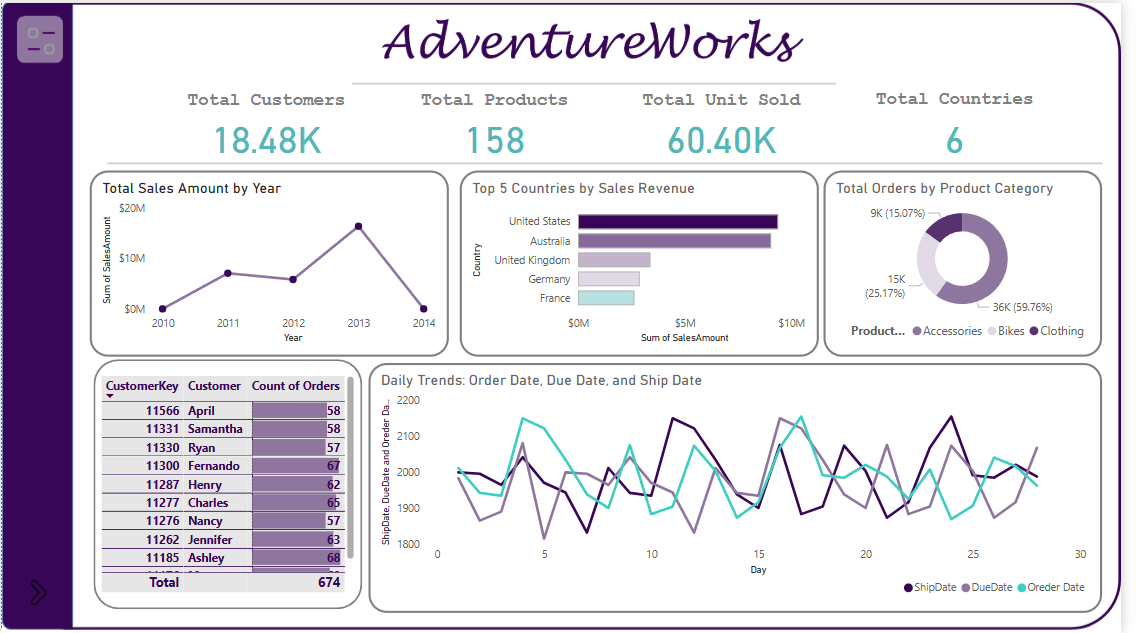

This screenshot's page, from the dashboard's own definition file:
{"tool":"powerbi","page":{"name":"Overview","canvas":[1280,720],"ordinal":2},"visuals":[{"type":"actionButton","box":[18.6,14.3,54.3,51.4],"z":0},{"type":"tableEx","fields":{"Values":["DimCustomer.CustomerKey","DimCustomer.FirstName","FactInternetSales.OrderDateKey"]},"box":[108.4,421.3,300.5,256.6],"z":1000},{"type":"image","box":[394.3,0,560,100],"z":2000},{"type":"shape","box":[105.7,407.1,307.1,285.7],"z":3000},{"type":"card","title":"Total Products","fields":{"Values":["FactInternetSales.ProductKey"]},"box":[433.6,100.2,259.3,82.3],"z":4000},{"type":"card","title":"Total Countries","fields":{"Values":["DimGeography.EnglishCountryRegionName"]},"box":[960.6,98.8,259.3,83.7],"z":5000},{"type":"card","title":"Total Unit Sold ","fields":{"Values":["FactInternetSales.OrderDateKey"]},"box":[693,100.2,260.7,82.3],"z":6000},{"type":"card","title":"Total Customers ","fields":{"Values":["FactInternetSales.CustomerKey"]},"box":[172.9,100.2,260.7,82.3],"z":7000},{"type":"shape","box":[401.4,85.7,552.9,12.9],"z":8000},{"type":"shape","box":[120.8,175.6,1137.6,15.1],"z":9000},{"type":"lineChart","title":"Total Sales Amount by Year","fields":{"Category":["FactInternetSales.OrderDate.Variation.Date Hierarchy.Year","FactInternetSales.OrderDate.Variation.Date Hierarchy.Quarter","FactInternetSales.OrderDate.Variation.Date Hierarchy.Month","FactInternetSales.OrderDate.Variation.Date Hierarchy.Day"],"Y":["FactInternetSales.SalesAmount"]},"box":[101.5,190.7,410.3,212.7],"z":10000,"group":"g1"},{"type":"group","id":"g1","title":"Group 1","box":[101.5,190.7,410.3,212.7],"z":10000},{"type":"lineChart","title":"Daily Trends: Order Date, Due Date, and Ship Date","fields":{"Category":["DimDate.FullDateAlternateKey.Variation.Date Hierarchy.Year","DimDate.FullDateAlternateKey.Variation.Date Hierarchy.Quarter","DimDate.FullDateAlternateKey.Variation.Date Hierarchy.Month","DimDate.FullDateAlternateKey.Variation.Date Hierarchy.Day"],"Y":["FactInternetSales.No of Orders","FactInternetSales.No of Drders DueDate","FactInternetSales.No of OrdersDate"]},"box":[420,411.4,838.6,285.7],"z":11000},{"type":"clusteredBarChart","title":"Top 5 Countries by Sales Revenue","fields":{"Category":["DimGeography.EnglishCountryRegionName"],"Y":["FactInternetSales.SalesAmount"]},"box":[524.2,190.7,410.3,212.7],"z":12000},{"type":"donutChart","title":"Total Orders by Product Category","fields":{"Y":["FactInternetSales.OrderQuantity"],"Category":["DimProductCategory.EnglishProductCategoryName"]},"box":[940,190.7,318.4,212.7],"z":13000},{"type":"image","box":[20.5,14.5,51.9,57.9],"z":14000},{"type":"image","box":[1.2,651.5,80.8,44.6],"z":15000}]}

Visuals, with their boxes in screenshot pixels (x1, y1, x2, y2), scaled from the page's 1280x720 canvas onto the 1136x633 screenshot:
actionButton: bbox=(17, 13, 65, 58)
tableEx - DimCustomer.CustomerKey x DimCustomer.FirstName: bbox=(96, 370, 363, 596)
image: bbox=(350, 0, 847, 88)
shape: bbox=(94, 358, 366, 609)
"Total Products" card: bbox=(385, 88, 615, 160)
"Total Countries" card: bbox=(853, 87, 1083, 160)
"Total Unit Sold " card: bbox=(615, 88, 846, 160)
"Total Customers " card: bbox=(153, 88, 385, 160)
shape: bbox=(356, 75, 847, 87)
shape: bbox=(107, 154, 1117, 168)
"Total Sales Amount by Year" lineChart: bbox=(90, 168, 454, 355)
"Group 1" group: bbox=(90, 168, 454, 355)
"Daily Trends: Order Date, Due Date, and Ship Date" lineChart: bbox=(373, 362, 1117, 613)
"Top 5 Countries by Sales Revenue" clusteredBarChart: bbox=(465, 168, 829, 355)
"Total Orders by Product Category" donutChart: bbox=(834, 168, 1117, 355)
image: bbox=(18, 13, 64, 64)
image: bbox=(1, 573, 73, 612)
